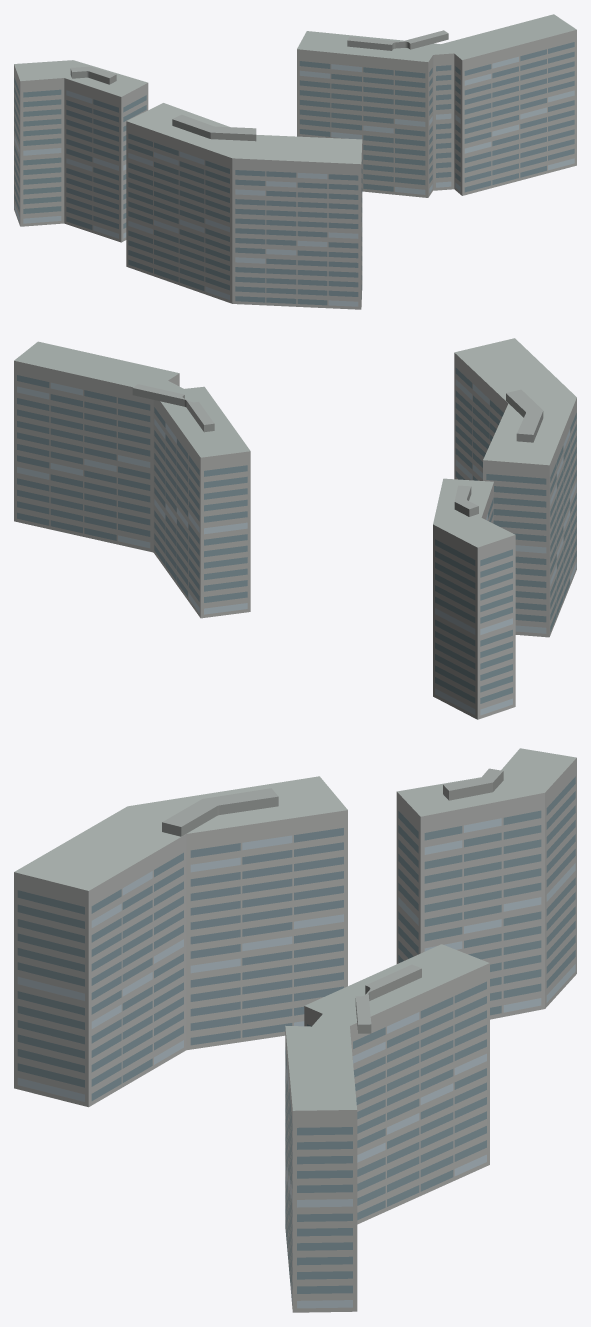
File: apt-a14381506.glb
3 renders of one model, top to bottom at view 1: azimuth 30°, elevation 25°; view 2: azimuth 150°, elevation 25°; view 3: azimuth 270°, elevation 25°, orthographic. The views are drawn at different scales.
Parts seen in each view (by area): view 1: apt-a14381506; view 2: apt-a14381506; view 3: apt-a14381506.
Boxes of the visible parts, box(x1,y1,x2,y2) form: apt-a14381506: box(14, 14, 576, 309); apt-a14381506: box(14, 338, 576, 719); apt-a14381506: box(14, 748, 576, 1312).
Size of the model in its own units: 158 by 47.81 by 108.
